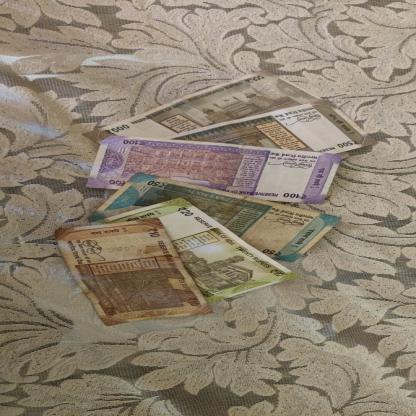New100Back: (89, 134, 344, 204)
New10Back: (54, 217, 217, 327)
New20Back: (89, 196, 300, 304)
New500Back: (82, 69, 323, 145), (158, 98, 380, 154)
New50Back: (90, 172, 343, 263)
